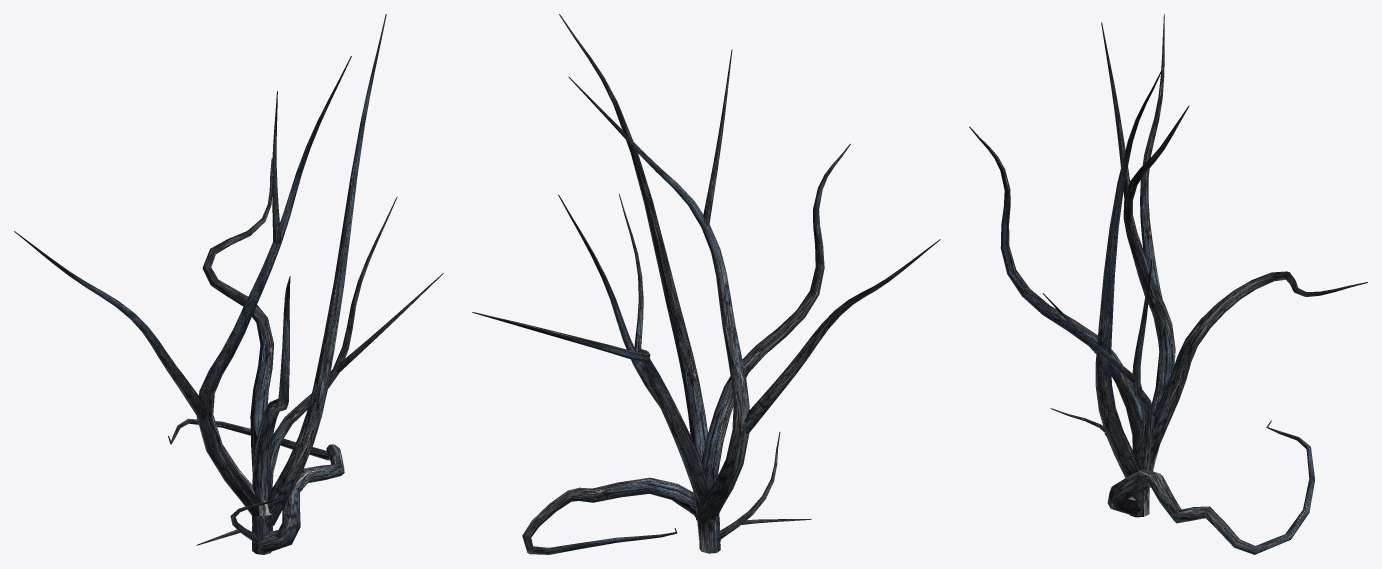
The model's file is Arvores01.fbx.
The picture shows the model from 3 angles, left to right: view 1: azimuth 30°, elevation 25°; view 2: azimuth 150°, elevation 25°; view 3: azimuth 270°, elevation 25°; orthographic projection. The views are drawn at different scales.
Parts seen in each view (by area): view 1: tree; view 2: tree; view 3: tree.
Part boxes in pixels (x1=…): tree: x1=14, y1=14, x2=443, y2=554; tree: x1=472, y1=14, x2=940, y2=554; tree: x1=969, y1=14, x2=1367, y2=554.
Bounding box in the file's own units: 1.3 × 1.15 × 1.64.
Materials: 1 (1 with a texture image).
